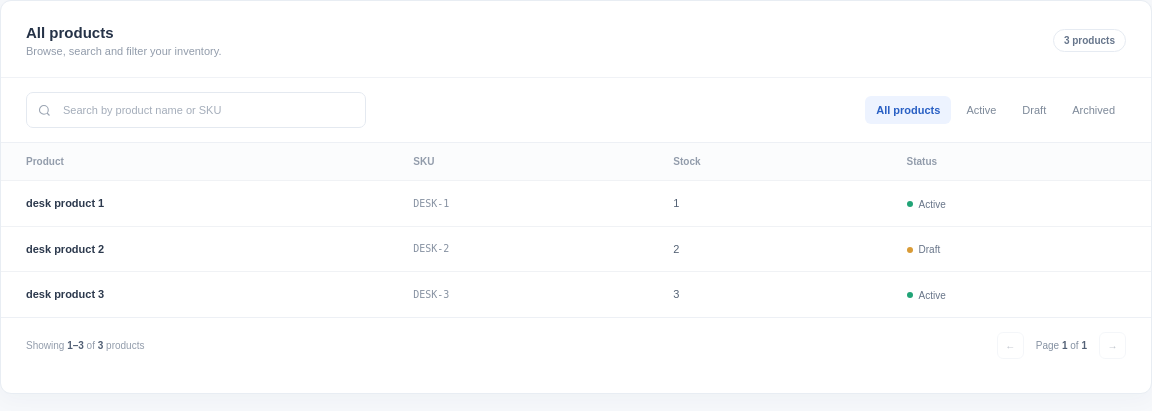
it: Catalogue component › shows an empty state with no pager when nothing matches
expect the text "desk product 1" is shown: met, box [1,180,388,226]
Type "zzz" into the search field named "Search products by name or SKU". click: (208, 110)
box: [61,103,355,117]
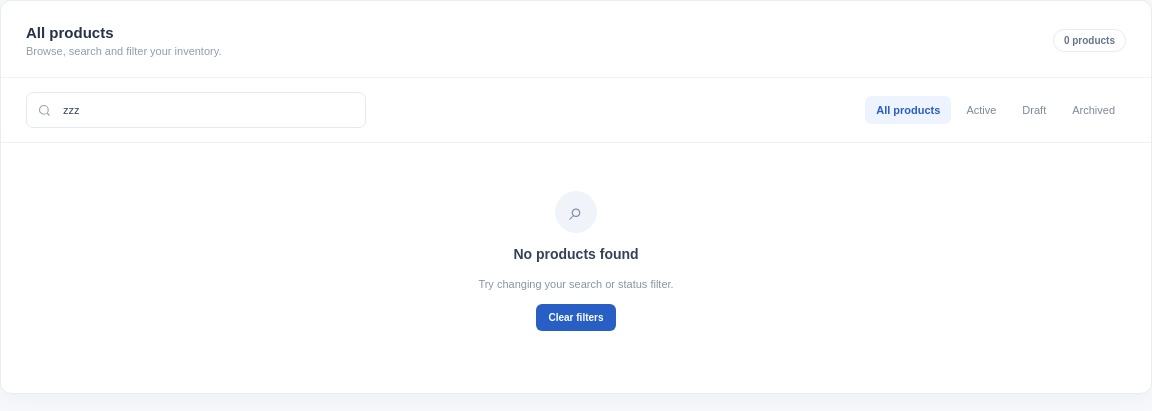
expect the heading "No products found" is shown: met, box [513,246,639,262]
expect the navigation bar "Catalogue pagination" is gone: met
